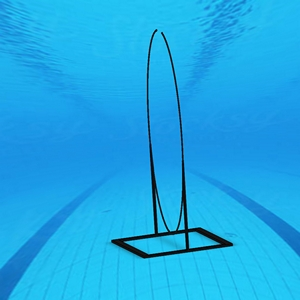circle: (110, 25, 235, 267)
